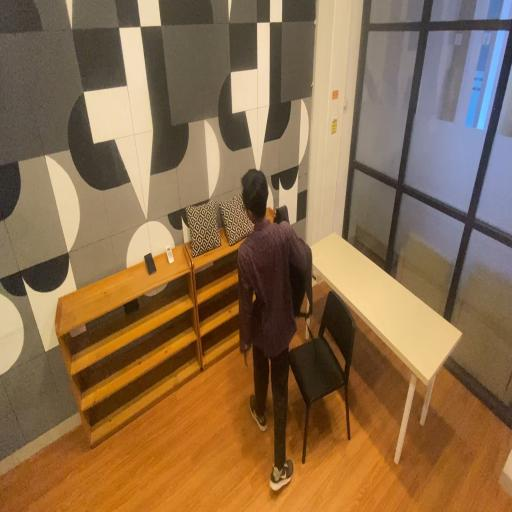bantal: (219, 190, 259, 248)
hp: (143, 253, 159, 281)
kursi: (289, 274, 357, 472)
lemari: (48, 234, 208, 455), (179, 199, 291, 383), (184, 200, 223, 260)
meja: (298, 218, 470, 478)
remote AC: (165, 240, 176, 274)
tas ransel: (283, 229, 318, 330)
